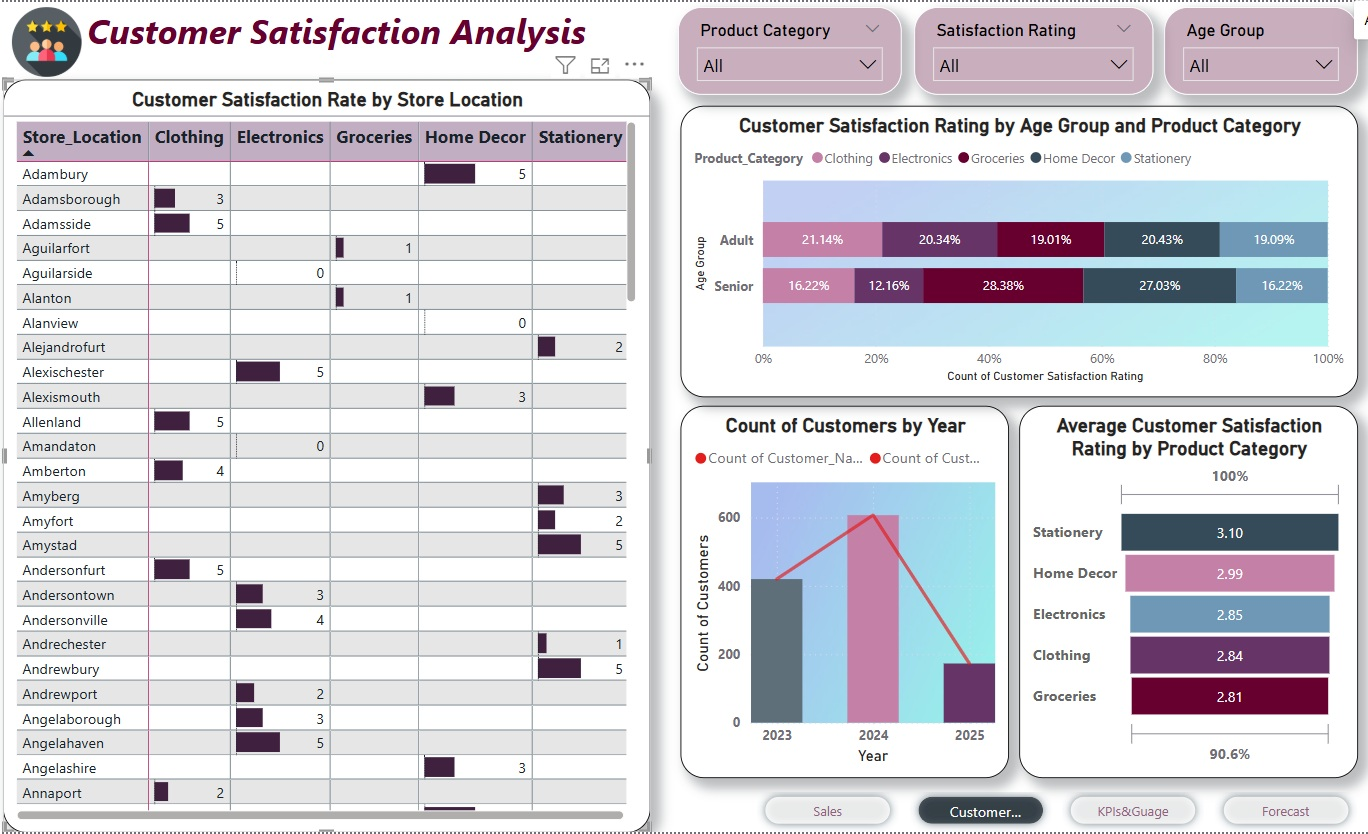

The page's visual inventory and layout, read from the dashboard file:
{"tool":"powerbi","page":{"name":"Customer Satisfaction","canvas":[1280,773],"ordinal":1},"visuals":[{"type":"pivotTable","title":"Customer Satisfaction Rate by Store Location","fields":{"Rows":["retail_sales_customer_satisfact.Store_Location"],"Columns":["retail_sales_customer_satisfact.Product_Category"],"Values":["Sum(retail_sales_customer_satisfact.Customer_Satisfaction_Rating)"]},"box":[9.3,72.1,602.3,701.2],"z":0},{"type":"textbox","box":[0,0,639.5,55.8],"z":1000},{"type":"lineStackedColumnComboChart","title":"Count of Customers  by Year","fields":{"Category":["retail_sales_customer_satisfact.Purchase_Date.Variation.Date Hierarchy.Year"],"Y":["CountNonNull(retail_sales_customer_satisfact.Customer_Name)"],"Y2":["CountNonNull(retail_sales_customer_satisfact.Customer_Name)"]},"box":[639.5,375.6,305.8,346.5],"z":2000},{"type":"hundredPercentStackedBarChart","title":"Customer Satisfaction Rating by Age Group and Product Category","fields":{"Category":["retail_sales_customer_satisfact.Age Group"],"Y":["CountNonNull(retail_sales_customer_satisfact.Customer_Satisfaction_Rating)"],"Series":["retail_sales_customer_satisfact.Product_Category"]},"box":[639.5,96.5,630.2,270.9],"z":3000},{"type":"pageNavigator","box":[710.5,731.4,559.3,41.9],"z":4000},{"type":"funnel","title":"Average Customer Satisfaction Rating by Product Category","fields":{"Category":["retail_sales_customer_satisfact.Product_Category"],"Y":["Avg(retail_sales_customer_satisfact.Customer_Satisfaction_Rating)"]},"box":[954.7,375.6,315.1,346.5],"z":5000},{"type":"slicer","fields":{"Values":["retail_sales_customer_satisfact.Product_Category"]},"box":[637.2,4.7,208.1,81.4],"z":6000},{"type":"slicer","fields":{"Values":["retail_sales_customer_satisfact.Customer_Satisfaction_Rating"]},"box":[857,4.7,222.1,81.4],"z":7000},{"type":"slicer","fields":{"Values":["retail_sales_customer_satisfact.Age Group"]},"box":[1089.5,4.7,180.2,81.4],"z":8000},{"type":"image","box":[0,0,100,74.4],"z":9000}]}

Visuals, with their boxes in screenshot pixels (x1, y1, x2, y2), scaled from the page's 1280x773 canvas onto the 1368x834 screenshot:
"Customer Satisfaction Rate by Store Location" pivotTable: crop(10, 78, 654, 833)
textbox: crop(0, 0, 683, 60)
"Count of Customers  by Year" lineStackedColumnComboChart: crop(683, 405, 1010, 779)
"Customer Satisfaction Rating by Age Group and Product Category" hundredPercentStackedBarChart: crop(683, 104, 1357, 396)
pageNavigator: crop(759, 789, 1357, 833)
"Average Customer Satisfaction Rating by Product Category" funnel: crop(1020, 405, 1357, 779)
slicer - retail_sales_customer_satisfact.Product_Category: crop(681, 5, 903, 93)
slicer - retail_sales_customer_satisfact.Customer_Satisfaction_Rating: crop(916, 5, 1153, 93)
slicer - retail_sales_customer_satisfact.Age Group: crop(1164, 5, 1357, 93)
image: crop(0, 0, 107, 80)
